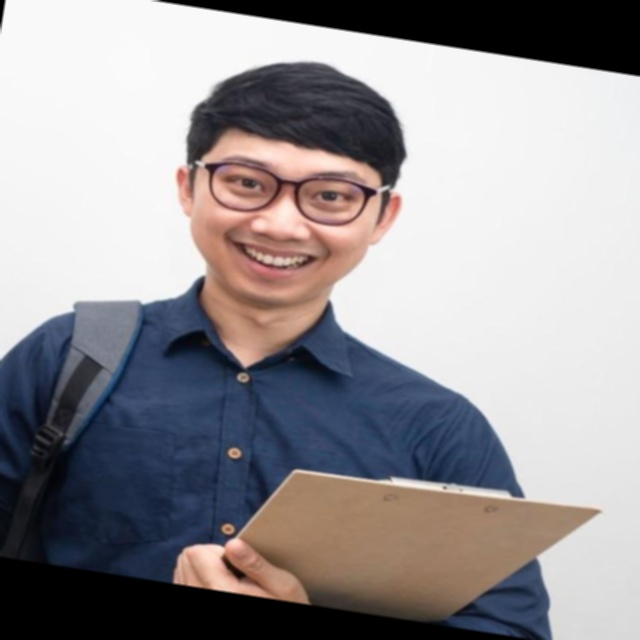Sin_Casco_Mascarrilla: (159, 44, 423, 321)
Sin_Chaleco: (0, 266, 511, 629)
